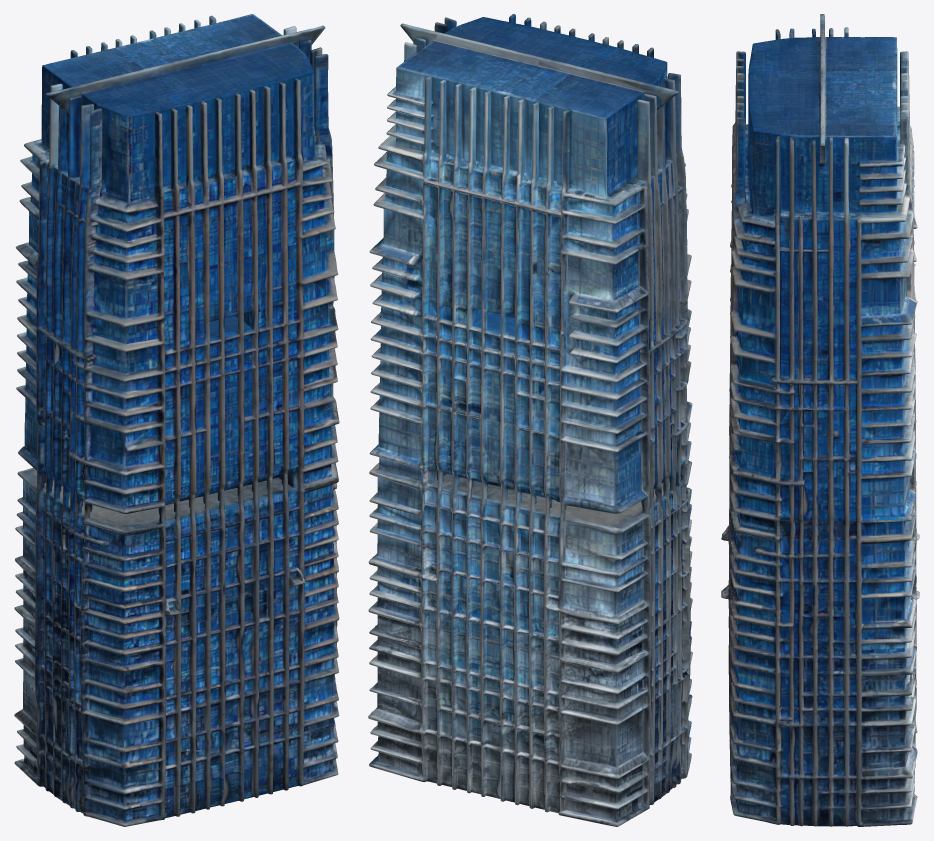
Rendered from upperhills.glb.
3 renders of one model, left to right at view 1: azimuth 30°, elevation 25°; view 2: azimuth 150°, elevation 25°; view 3: azimuth 270°, elevation 25°, orthographic. The views are drawn at different scales.
Visible parts, largest first — view 1: tripo_node_0392e524-0010-479d-a303-46716aba27f0; view 2: tripo_node_0392e524-0010-479d-a303-46716aba27f0; view 3: tripo_node_0392e524-0010-479d-a303-46716aba27f0.
Part boxes in pixels (x1,y1,x2,y2): tripo_node_0392e524-0010-479d-a303-46716aba27f0: (14, 14, 339, 826); tripo_node_0392e524-0010-479d-a303-46716aba27f0: (368, 14, 692, 826); tripo_node_0392e524-0010-479d-a303-46716aba27f0: (721, 14, 919, 826).
Bounding box in the file's own units: 0.4102 × 1 × 0.2615.
Materials: 1 (1 with a texture image).
